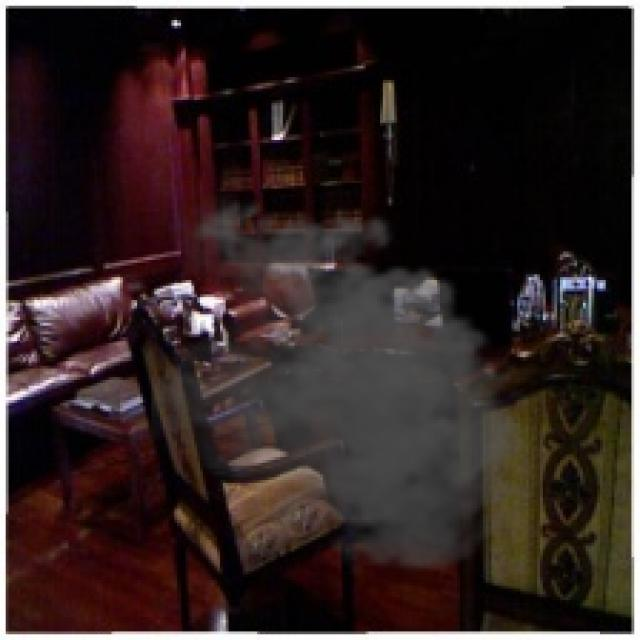smoke: (151, 189, 546, 580)
